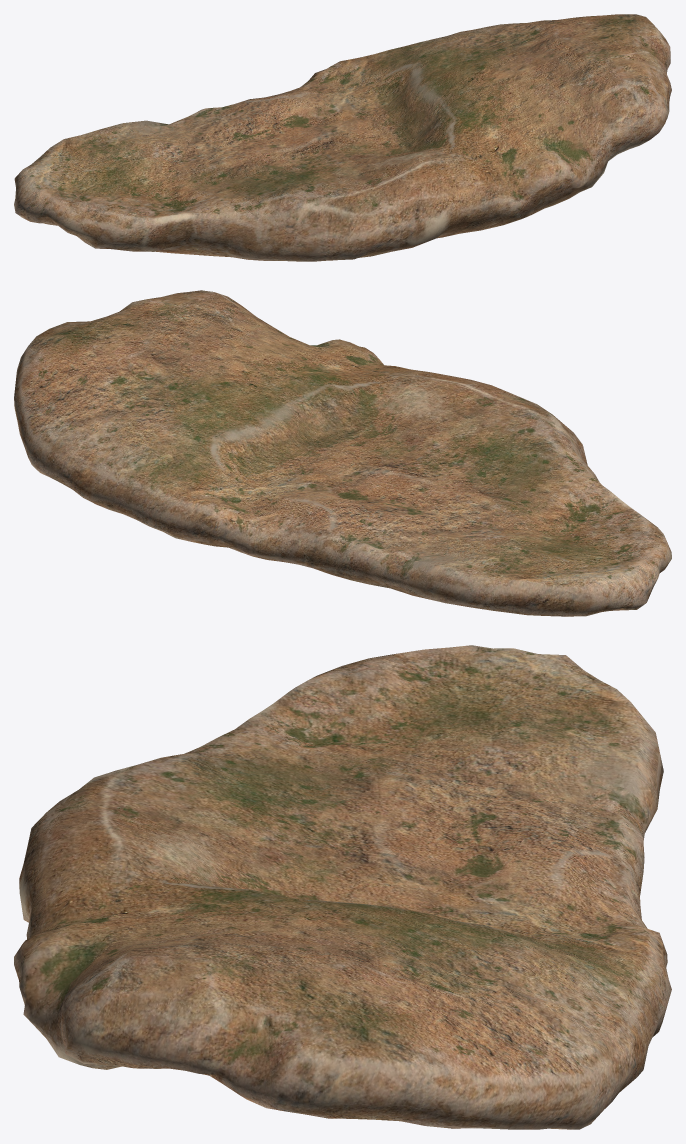
Rendered from rock-flat.glb.
3 renders of one model, top to bottom at view 1: azimuth 30°, elevation 25°; view 2: azimuth 150°, elevation 25°; view 3: azimuth 270°, elevation 25°, orthographic. The views are drawn at different scales.
Parts seen in each view (by area): view 1: g; view 2: g; view 3: g.
Boxes of the visible parts, bbox=[...] form: g: bbox=[14, 14, 671, 261]; g: bbox=[14, 290, 671, 616]; g: bbox=[14, 645, 671, 1129].
Size of the model in its own units: 2 by 0.3937 by 1.06.
1 material, 1 textured.
